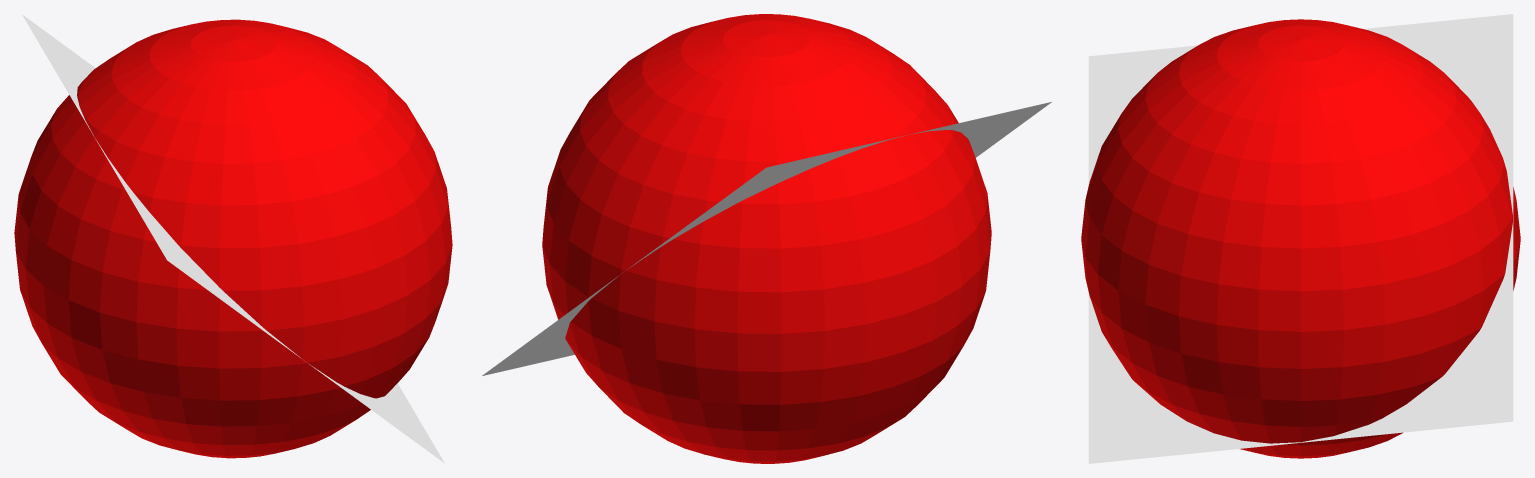
The model's file is animated_material.gltf.
3 views of the same model, side by side, from view 1: azimuth 30°, elevation 25°; view 2: azimuth 150°, elevation 25°; view 3: azimuth 270°, elevation 25° (orthographic). The views are drawn at different scales.
Visible parts, largest first — view 1: Sphere, Plane; view 2: Sphere, Plane; view 3: Sphere, Plane.
Part boxes in pixels (box(x1,y1,x2,y2)): Sphere: box(14, 19, 452, 458); Plane: box(22, 14, 444, 463); Sphere: box(542, 14, 991, 463); Plane: box(482, 102, 1051, 375); Sphere: box(1081, 19, 1520, 458); Plane: box(1088, 14, 1513, 463).
Bounding box in the file's own units: 2 × 2 × 2.
